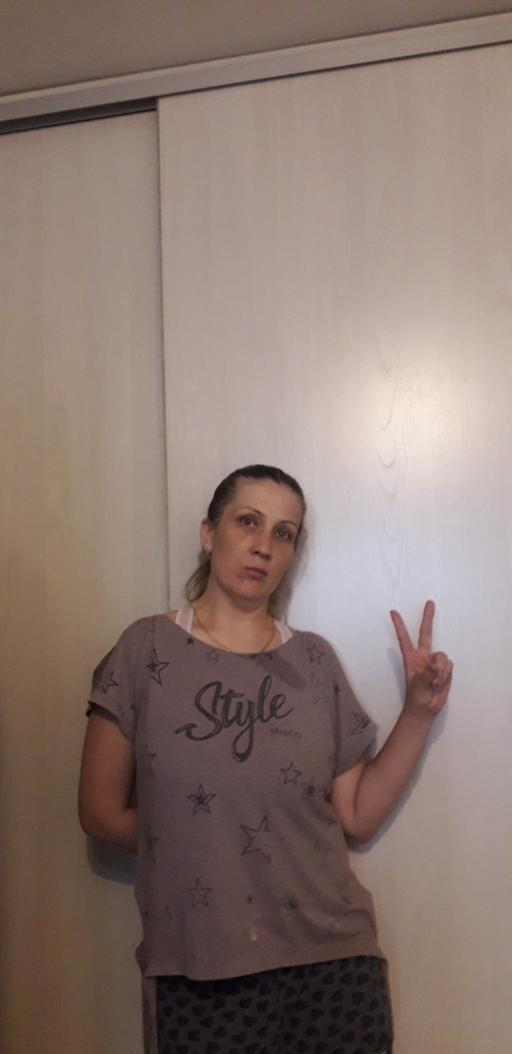peace: (386, 598, 456, 718)
